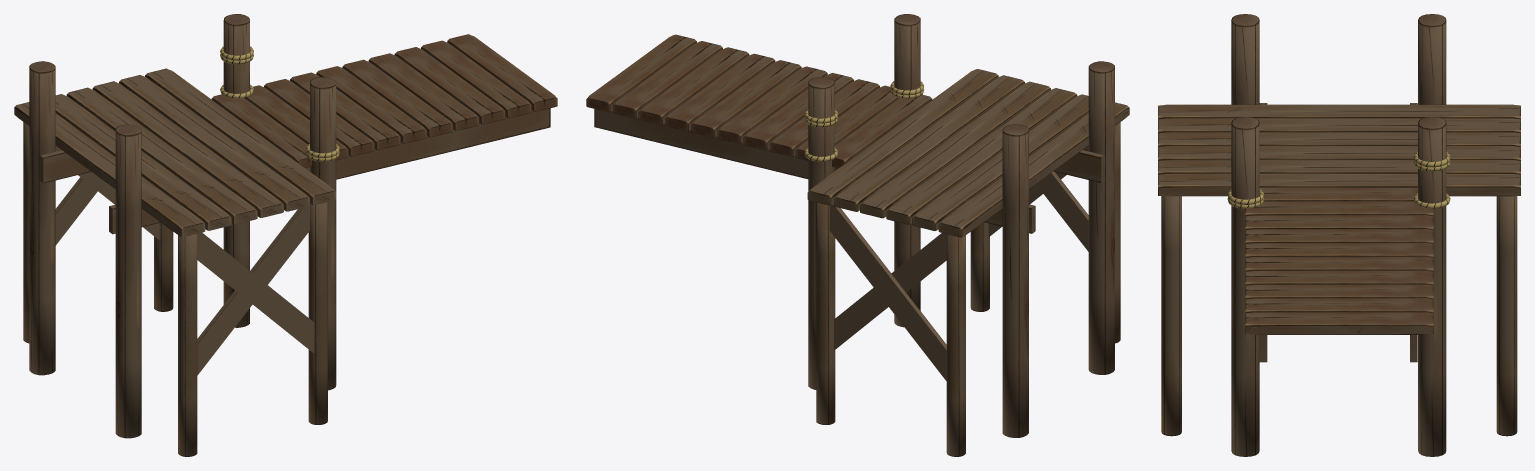
File: Pier.fbx
The picture shows the model from 3 angles, left to right: view 1: azimuth 30°, elevation 25°; view 2: azimuth 150°, elevation 25°; view 3: azimuth 270°, elevation 25°; orthographic projection. The views are drawn at different scales.
Parts seen in each view (by area): view 1: Pier_.006, Pier_.002, Pier_, Pier_.004, Pier_.005, Pier_.003; view 2: Pier_.006, Pier_.002, Pier_, Pier_.004, Pier_.005, Pier_.003; view 3: Pier_.006, Pier_, Pier_.002, Pier_.004, Pier_.003.
Boxes of the visible parts, bbox=[...] form: Pier_.006: bbox=[14, 68, 336, 237]; Pier_.002: bbox=[29, 14, 336, 438]; Pier_: bbox=[211, 34, 557, 167]; Pier_.004: bbox=[23, 122, 327, 456]; Pier_.005: bbox=[55, 146, 314, 375]; Pier_.003: bbox=[39, 108, 550, 234]; Pier_.006: bbox=[807, 69, 1129, 237]; Pier_.002: bbox=[808, 14, 1114, 437]; Pier_: bbox=[586, 34, 932, 168]; Pier_.004: bbox=[816, 122, 1120, 456]; Pier_.005: bbox=[829, 145, 1088, 381]; Pier_.003: bbox=[594, 109, 1104, 233]; Pier_.006: bbox=[1158, 104, 1520, 196]; Pier_: bbox=[1245, 188, 1433, 334]; Pier_.002: bbox=[1231, 14, 1446, 456]; Pier_.004: bbox=[1161, 196, 1517, 436]; Pier_.003: bbox=[1259, 103, 1417, 362].
Size of the model in its own units: 983 by 650 by 648.
